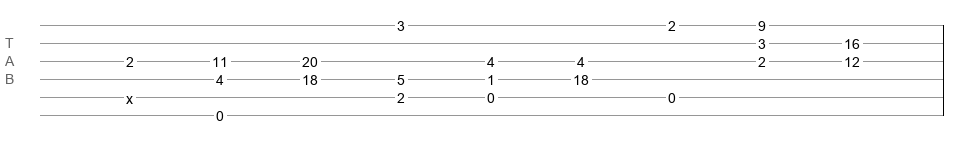0: (216, 108, 224, 118), (487, 90, 495, 100), (668, 90, 676, 100)
1: (487, 72, 495, 82)
11: (212, 54, 228, 64)
12: (844, 54, 860, 64)
16: (844, 36, 860, 46)
18: (302, 72, 318, 82), (573, 72, 589, 82)
2: (126, 54, 134, 64), (397, 90, 405, 100), (668, 18, 676, 28), (758, 54, 766, 64)
20: (302, 54, 318, 64)
3: (397, 18, 405, 28), (758, 36, 766, 46)
4: (216, 72, 224, 82), (487, 54, 495, 64), (577, 54, 585, 64)
5: (397, 72, 405, 82)
9: (758, 18, 766, 28)
x: (126, 91, 133, 99)
